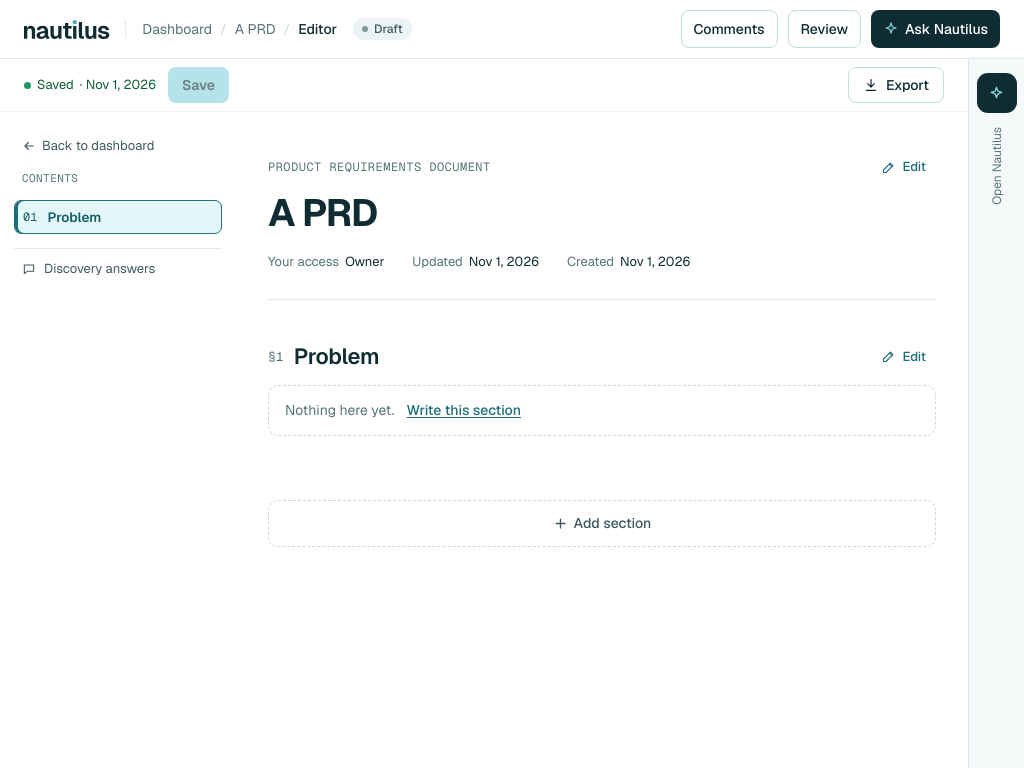
the side panel › starts closed, so the document gets the page, with a rail to open Nautilus
Click the button named "Open Ask Nautilus" at (996, 93), box [976, 73, 1016, 113]
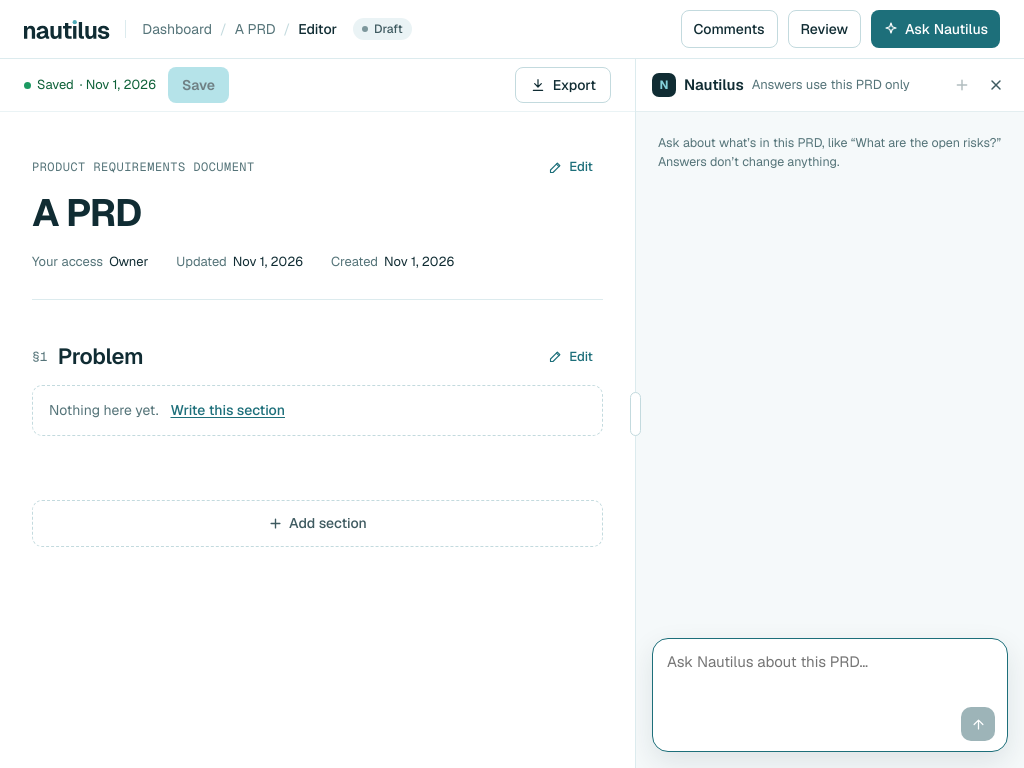
Now the element with class "ne-chat" is shown, box [636, 59, 1023, 767]
Now the element with class "ne-panel-rail" is gone
